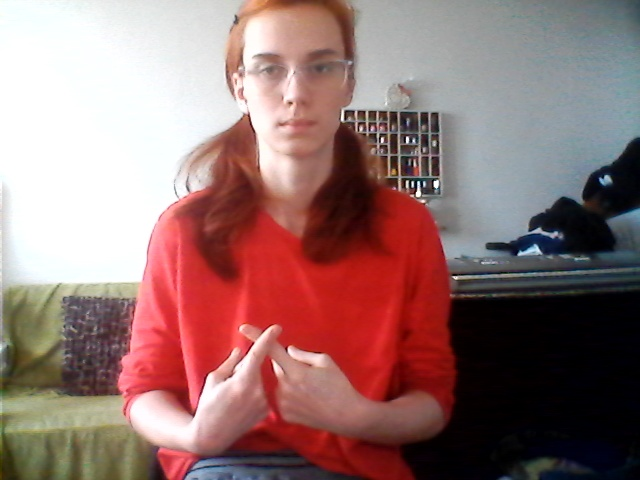x: (194, 315, 357, 448)
